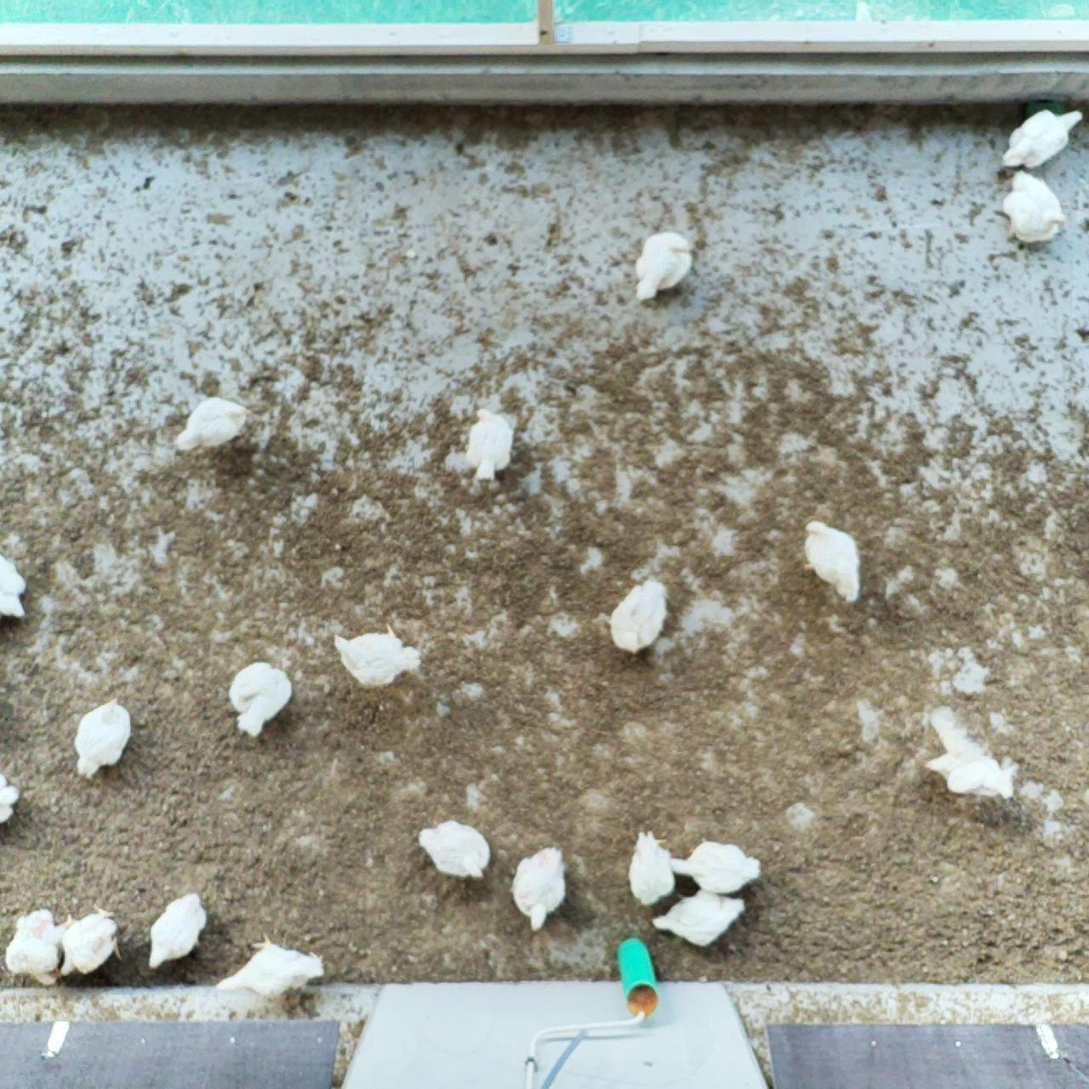chicken: (212, 932, 325, 995), (330, 620, 423, 689), (661, 838, 767, 897), (649, 888, 751, 948), (801, 514, 865, 606), (923, 739, 1016, 802), (999, 103, 1082, 171), (52, 905, 125, 980), (510, 843, 570, 933), (603, 577, 672, 655), (144, 890, 209, 971), (226, 661, 296, 736), (414, 817, 491, 885), (999, 170, 1068, 245), (72, 696, 133, 779), (172, 393, 250, 455), (5, 907, 64, 987), (630, 230, 695, 300), (624, 826, 678, 910), (465, 406, 516, 484), (0, 547, 28, 624), (0, 767, 21, 831)
